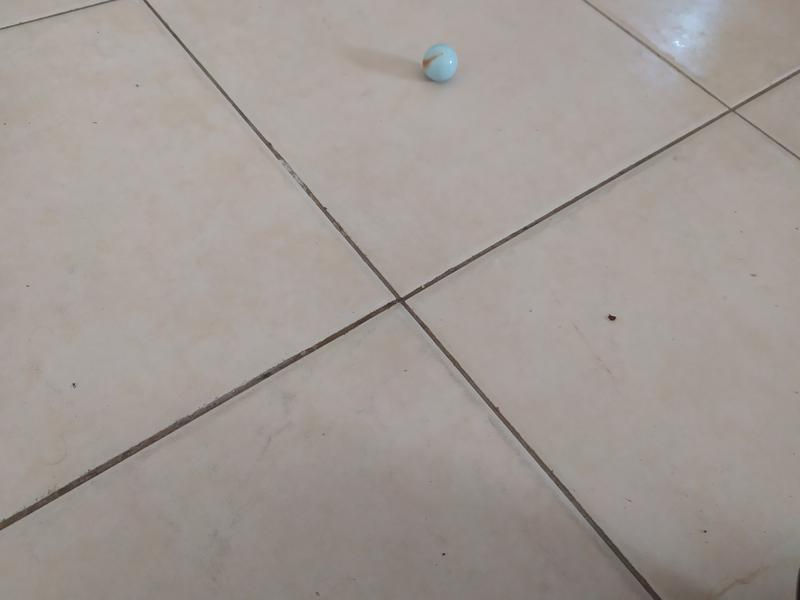Warning: (420, 41, 461, 84)
